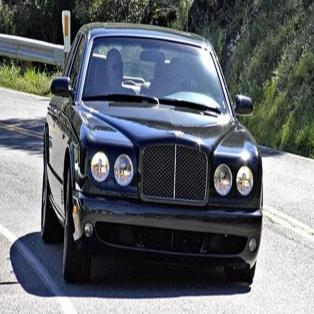Auto: (41, 21, 261, 289)
